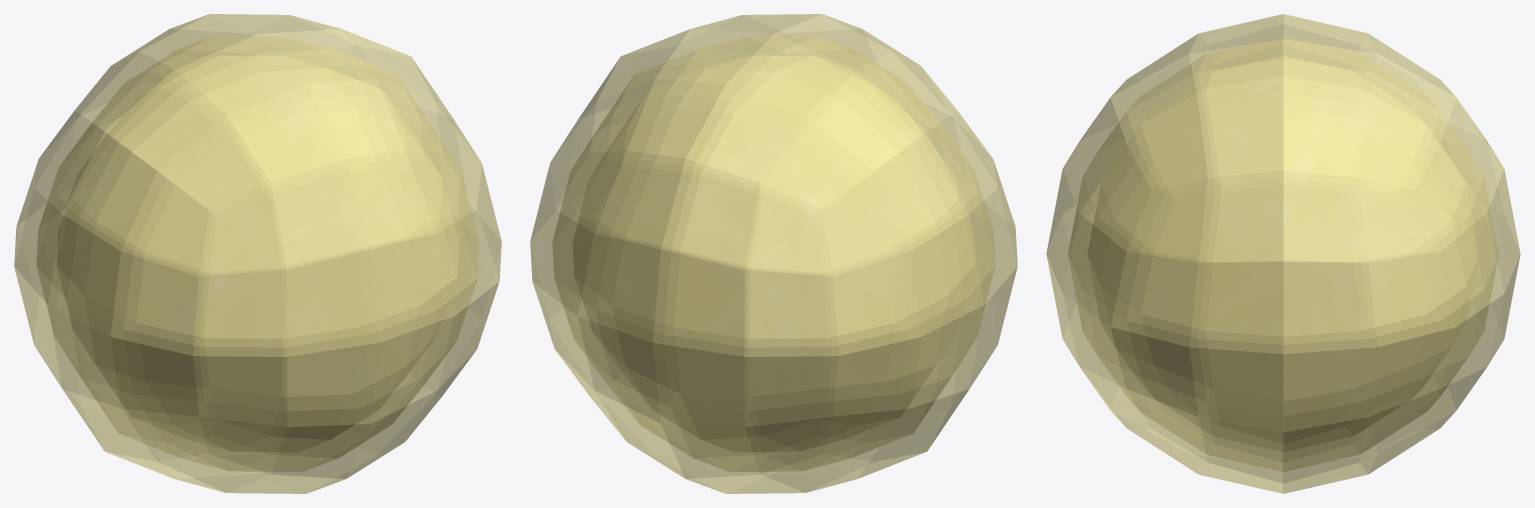
The model's file is lightball.obj.
The picture shows the model from 3 angles, left to right: view 1: azimuth 30°, elevation 25°; view 2: azimuth 150°, elevation 25°; view 3: azimuth 270°, elevation 25°; orthographic projection. The views are drawn at different scales.
Parts seen in each view (by area): view 1: Ball03, Ball02, Ball01; view 2: Ball03, Ball02, Ball01; view 3: Ball03, Ball02, Ball01.
Boxes of the visible parts, <box> form: Ball03: <box>14,14,501,493</box>; Ball02: <box>36,36,479,471</box>; Ball01: <box>57,56,458,451</box>; Ball03: <box>530,14,1017,493</box>; Ball02: <box>552,36,995,471</box>; Ball01: <box>573,56,974,451</box>; Ball03: <box>1046,14,1520,493</box>; Ball02: <box>1068,36,1498,471</box>; Ball01: <box>1088,56,1478,451</box>.
Bounding box in the file's own units: 0.6404 × 0.6404 × 0.6404.
